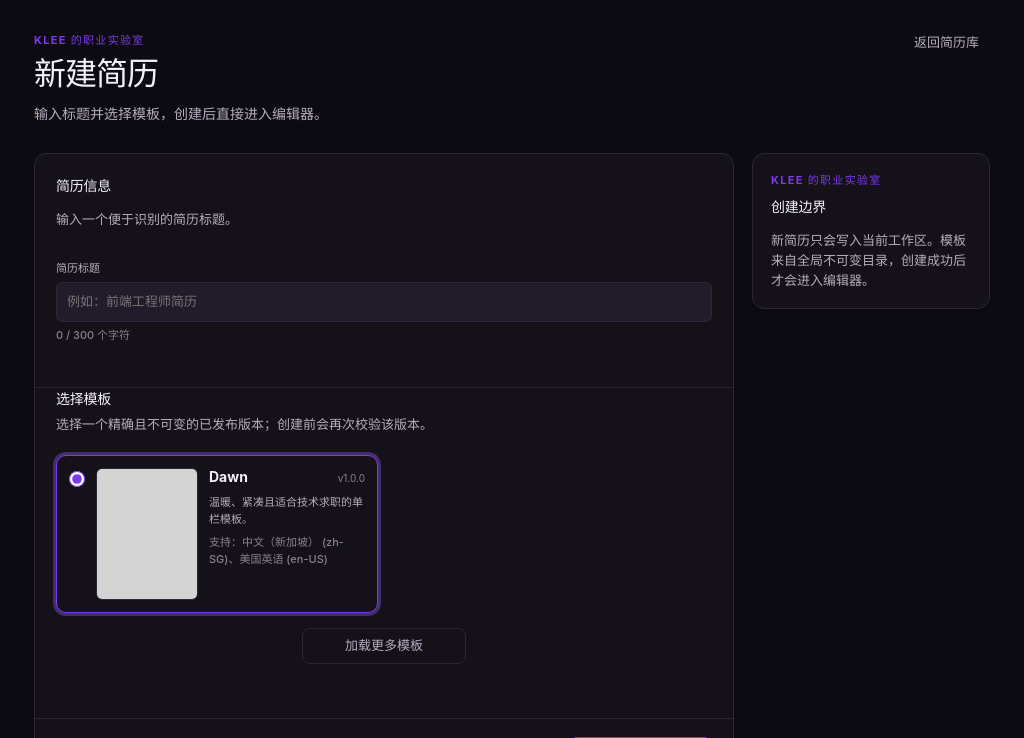
ResumeCreationPage › stops a repeated cursor without issuing another continuation request
What coordinates should you click on to do the following:
click the button "加载更多模板"
I would click on:
 (384, 646)
Its box is x1=302 y1=628 x2=466 y2=664.
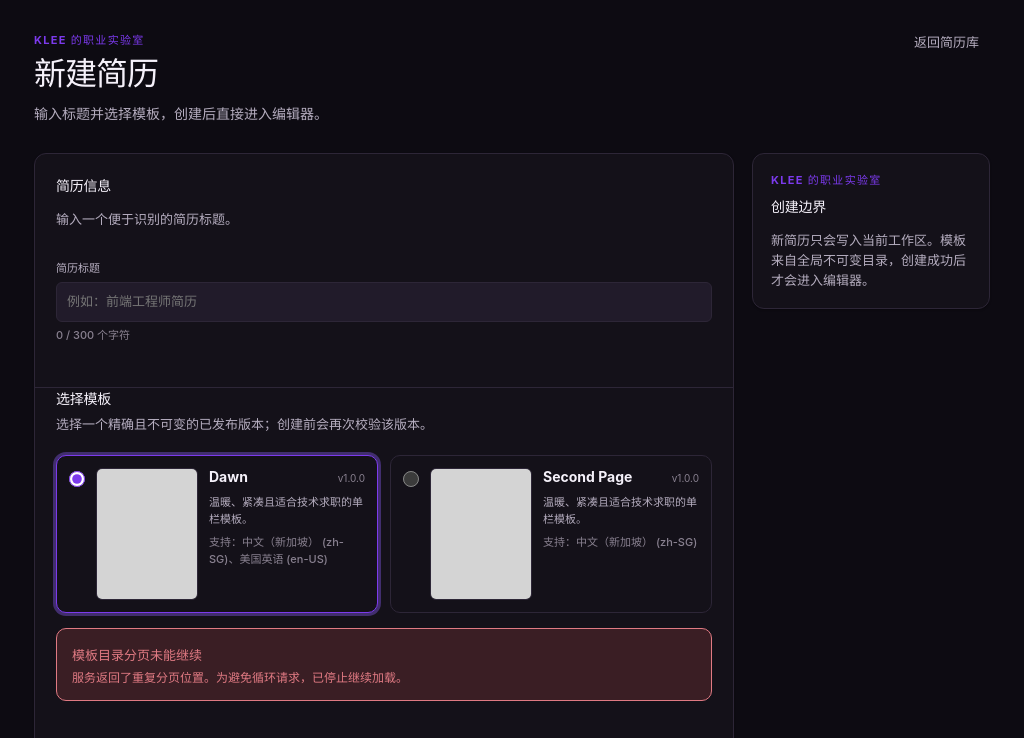
expect the message shows "模板目录分页未能继续": met, box x1=72 y1=647 x2=202 y2=663
expect the radio button labelled "Second Page v1.0.0 温暖、紧凑且适合技术求职的单栏模板。 支持：中文（新加坡） (zh-SG)" is shown: met, box x1=403 y1=471 x2=419 y2=487
expect the button "加载更多模板" is gone: met
